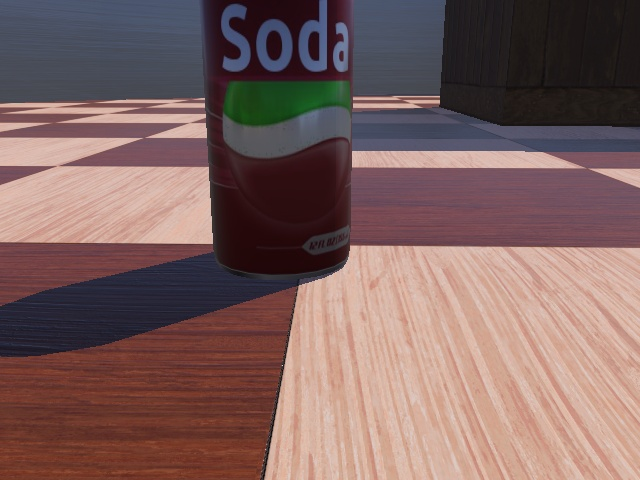lon_nuoc: (198, 6, 355, 278)
